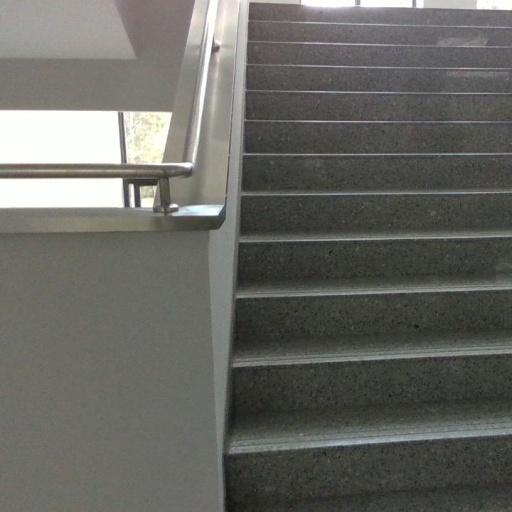stairs: (226, 4, 511, 511)
